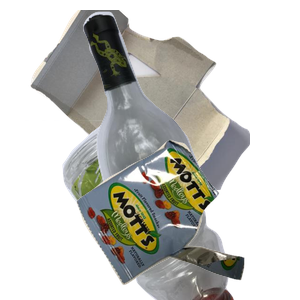glass: (81, 10, 300, 190)
paper: (28, 10, 268, 190)
plastic: (25, 120, 252, 300)
trash: (74, 137, 300, 300)
